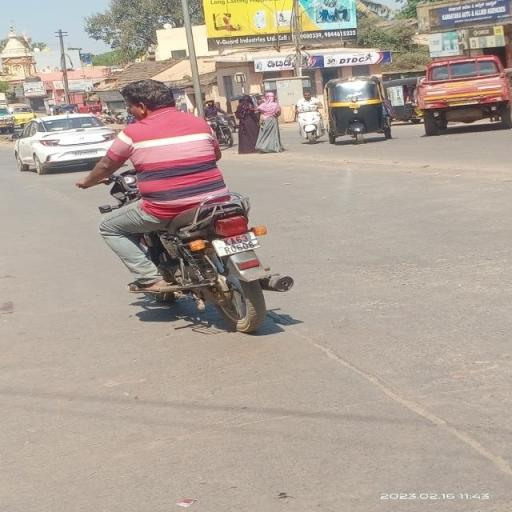bike: (67, 72, 311, 338)
numberplate: (211, 224, 264, 260)
withouthelmet: (123, 81, 170, 116)
